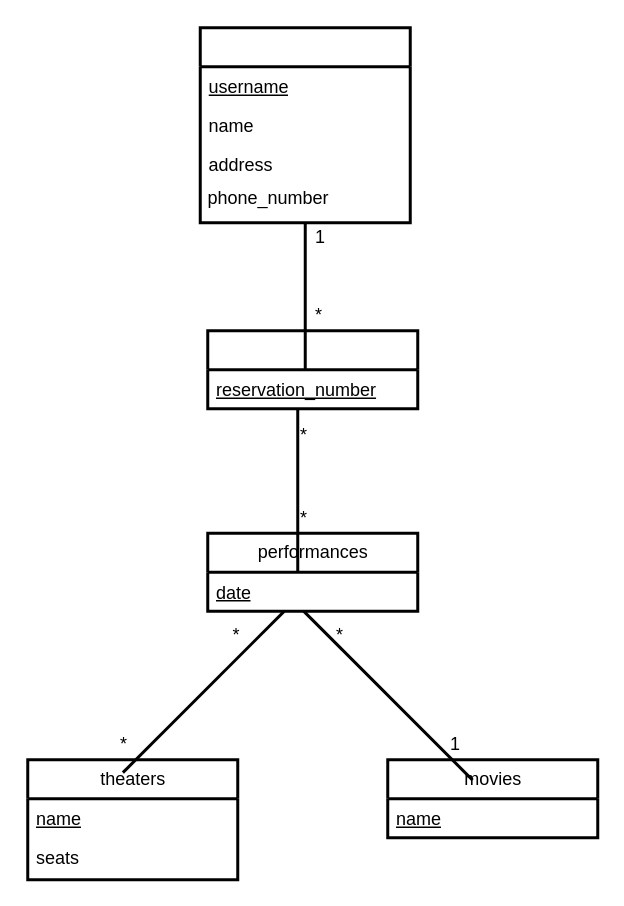
Some shapes in this 624 by 906 pixel diagram are drawn without their labels. Each missing label, with the box of its shape:
reservations: (206, 328, 418, 410)
users: (198, 26, 411, 224)
